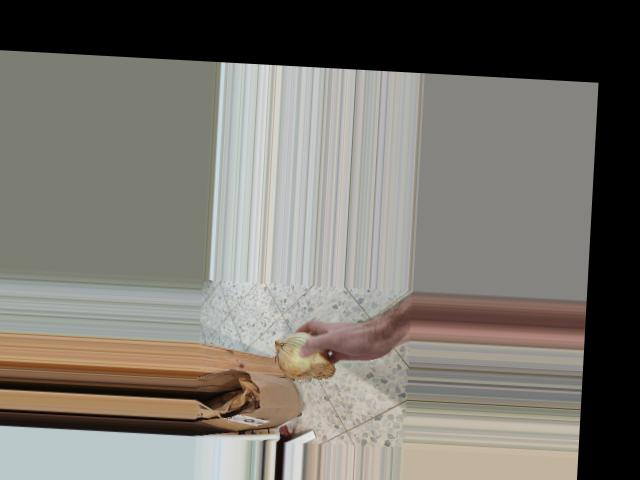onion: (270, 328, 339, 385)
